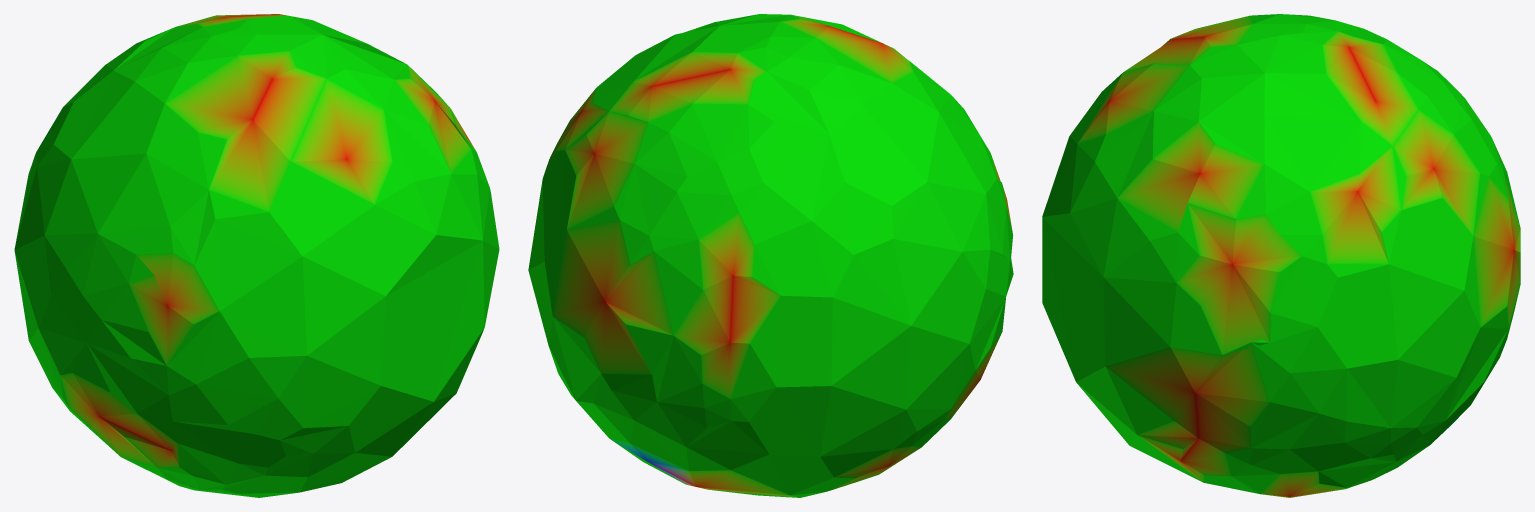
File: after_cleaning_reconquest_6.obj
3 renders of one model, left to right at view 1: azimuth 30°, elevation 25°; view 2: azimuth 150°, elevation 25°; view 3: azimuth 270°, elevation 25°, orthographic.
Size of the model in its own units: 1.99 by 1.99 by 1.97.
